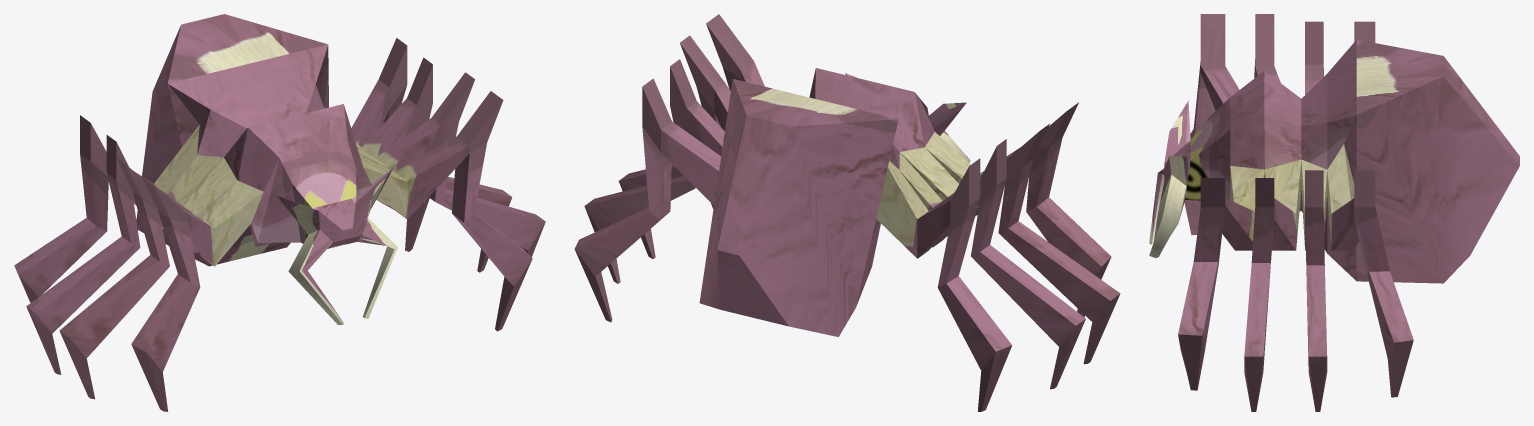
Rendered from Spider.fbx.
3 renders of one model, left to right at view 1: azimuth 30°, elevation 25°; view 2: azimuth 150°, elevation 25°; view 3: azimuth 270°, elevation 25°, orthographic. The views are drawn at different scales.
Parts seen in each view (by area): view 1: Spider; view 2: Spider; view 3: Spider.
Boxes of the visible parts, x1,y1,x2,y2 form: Spider: [14, 14, 545, 411]; Spider: [574, 14, 1120, 411]; Spider: [1149, 14, 1519, 411].
Size of the model in its own units: 0.8631 by 0.444 by 0.604.
